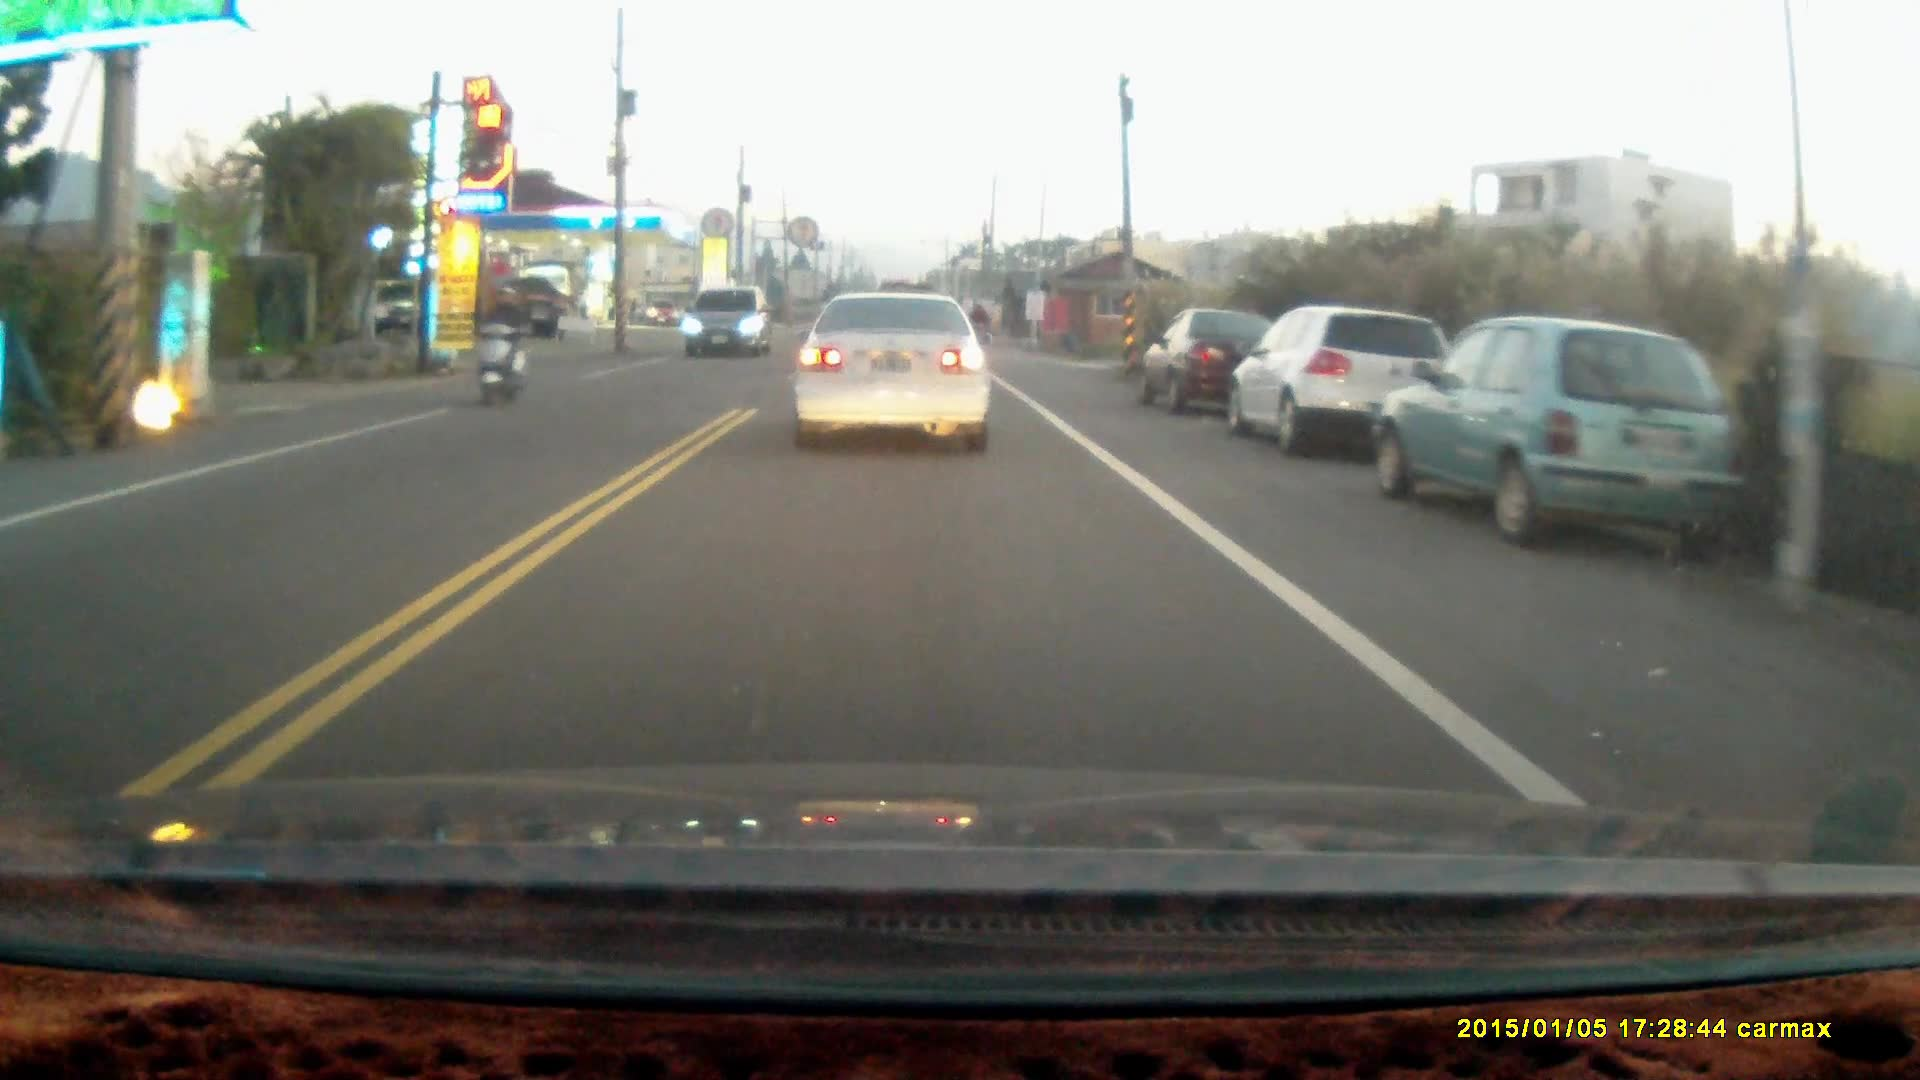rider: (473, 281, 526, 407)
vehicle: (1370, 318, 1751, 550), (1233, 309, 1452, 466), (791, 289, 996, 456), (1142, 311, 1283, 420), (682, 284, 775, 358)
